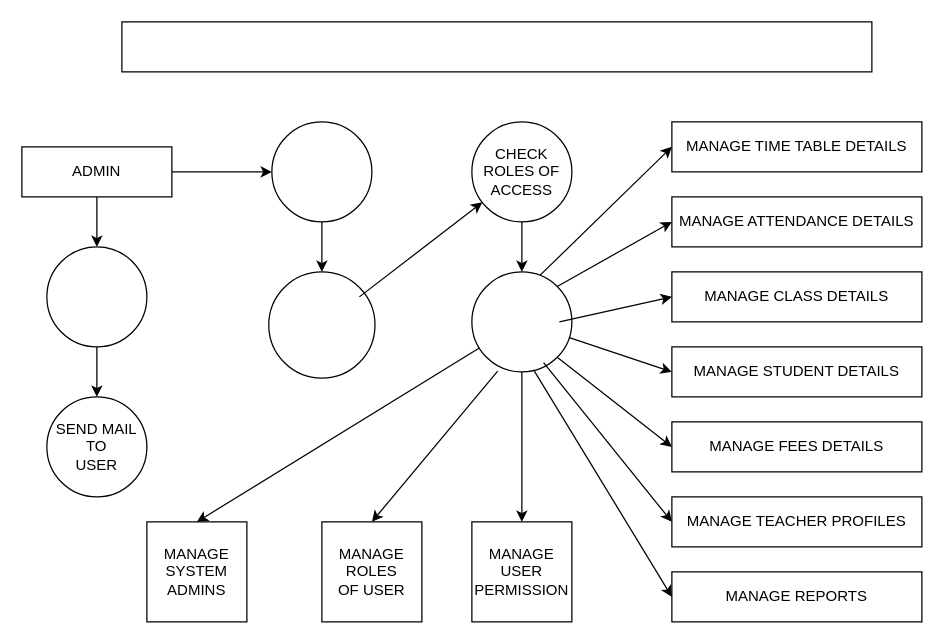
The diagram is 944 pixels wide and 644 high, and some of its shapes have lost their labels. Here are the shapes that lost their labels. From the top down, the centre of each, then its label:
point 496,46: STUDENT INFORMATION SYSTEM
point 321,171: LOGIN TO SYSTEM
point 96,296: FORGOT PASSWORD
point 321,324: CHECK CREDENTIALS
point 521,321: MANAGE MODULES
